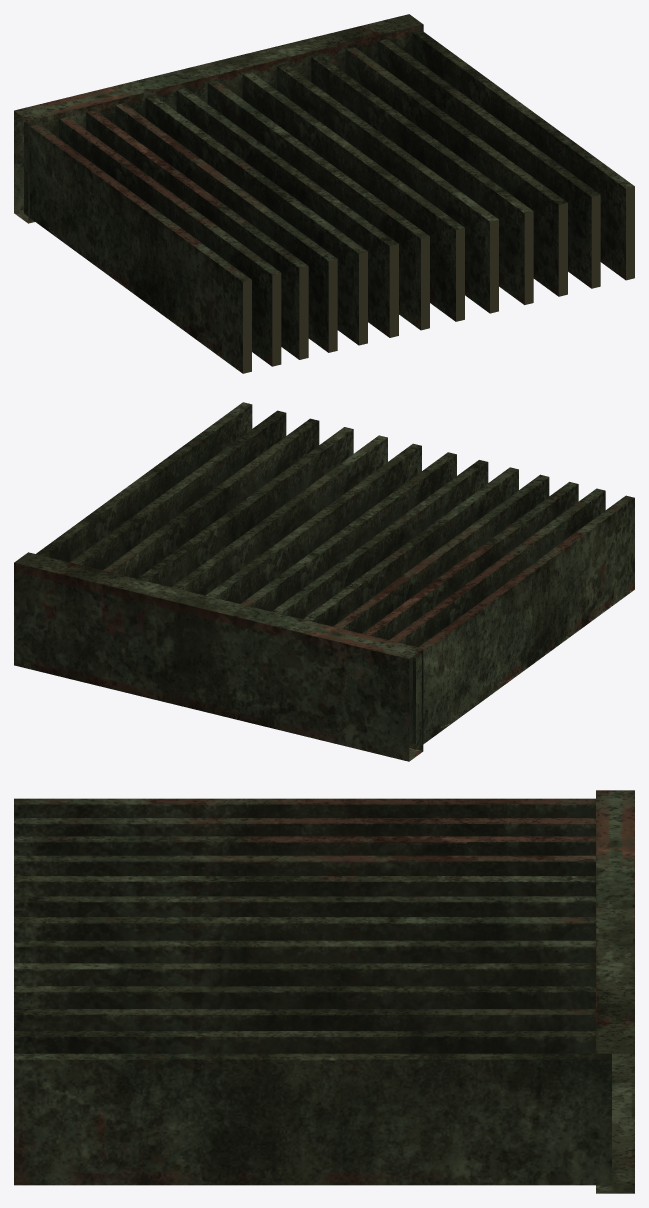
The model's file is Corner Floor.fbx.
3 renders of one model, top to bottom at view 1: azimuth 30°, elevation 25°; view 2: azimuth 150°, elevation 25°; view 3: azimuth 270°, elevation 25°, orthographic. The views are drawn at different scales.
Parts seen in each view (by area): view 1: Corner_Floor_Tile; view 2: Corner_Floor_Tile; view 3: Corner_Floor_Tile.
Part boxes in pixels (x1,y1,x2,y2): Corner_Floor_Tile: [14, 14, 634, 373]; Corner_Floor_Tile: [14, 402, 634, 761]; Corner_Floor_Tile: [14, 790, 634, 1193].
Size of the model in its own units: 2.01 by 0.5 by 2.01.
